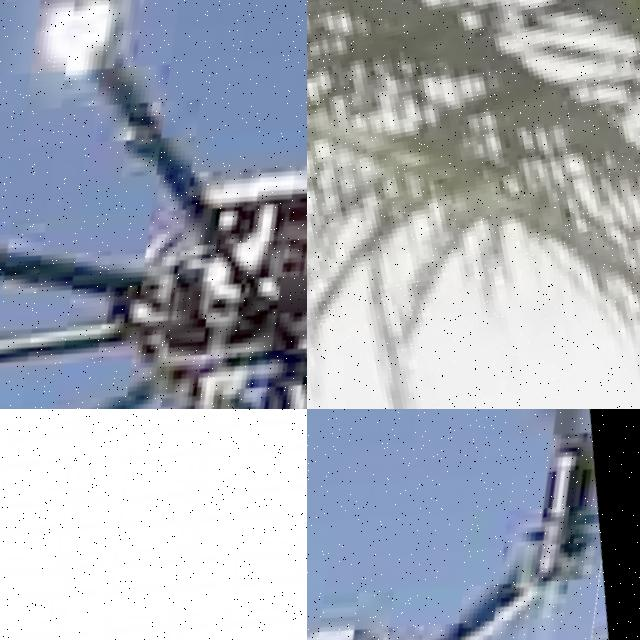drone: (0, 0, 307, 409), (307, 409, 640, 640), (0, 409, 307, 640)
